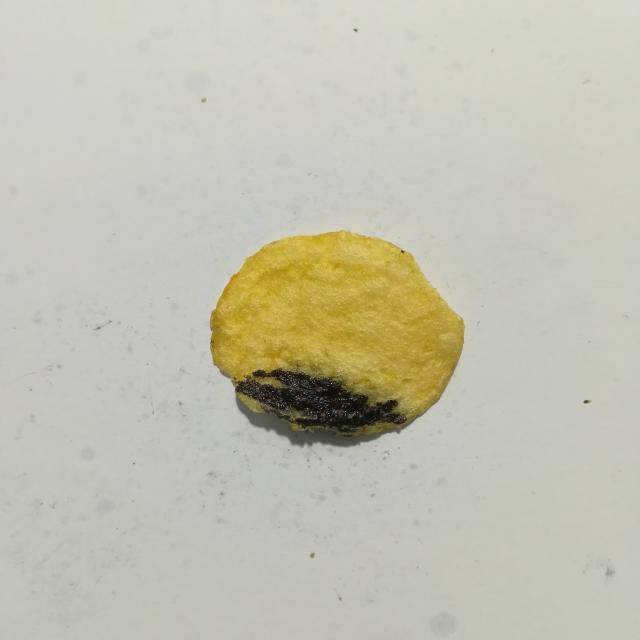chip: (210, 231, 464, 434)
damaged: (235, 369, 405, 432)
semi-damaged: (282, 360, 426, 422)
